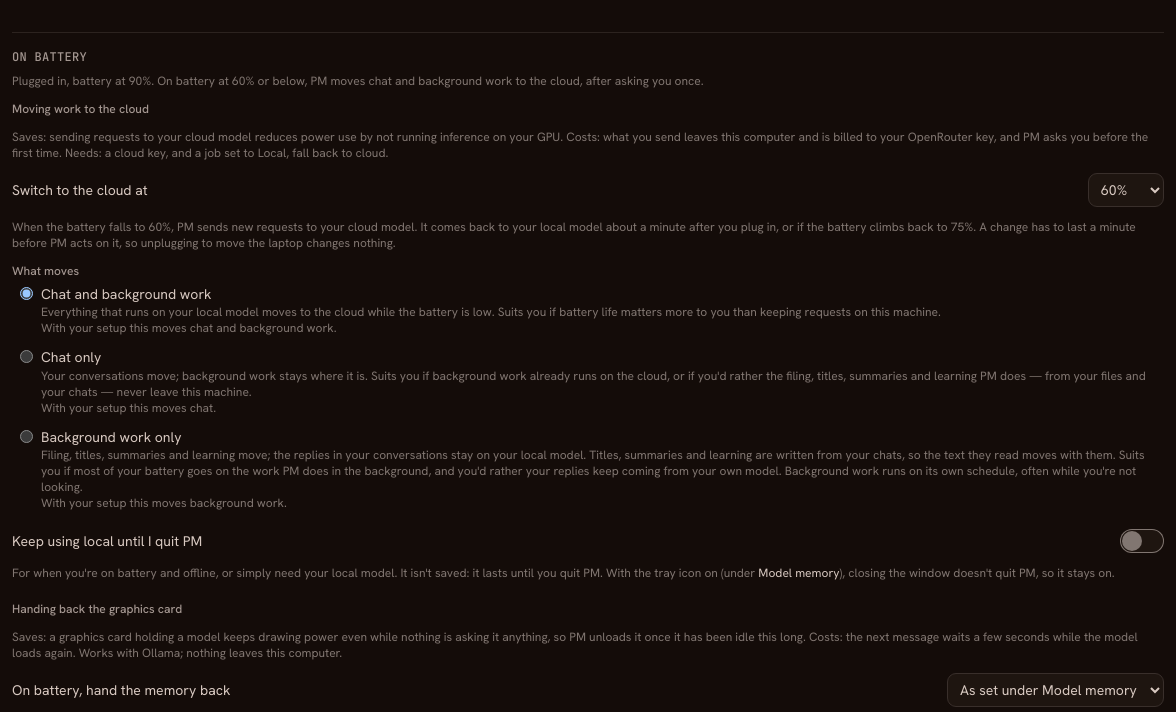
Test: On battery, hand the memory back (#432) › writes only its own field
Select "After 5 minutes without use" in the dropdown labelled "On battery, hand the memory back" at (1056, 690), box x1=947 y1=673 x2=1164 y2=707
(page scrolled)
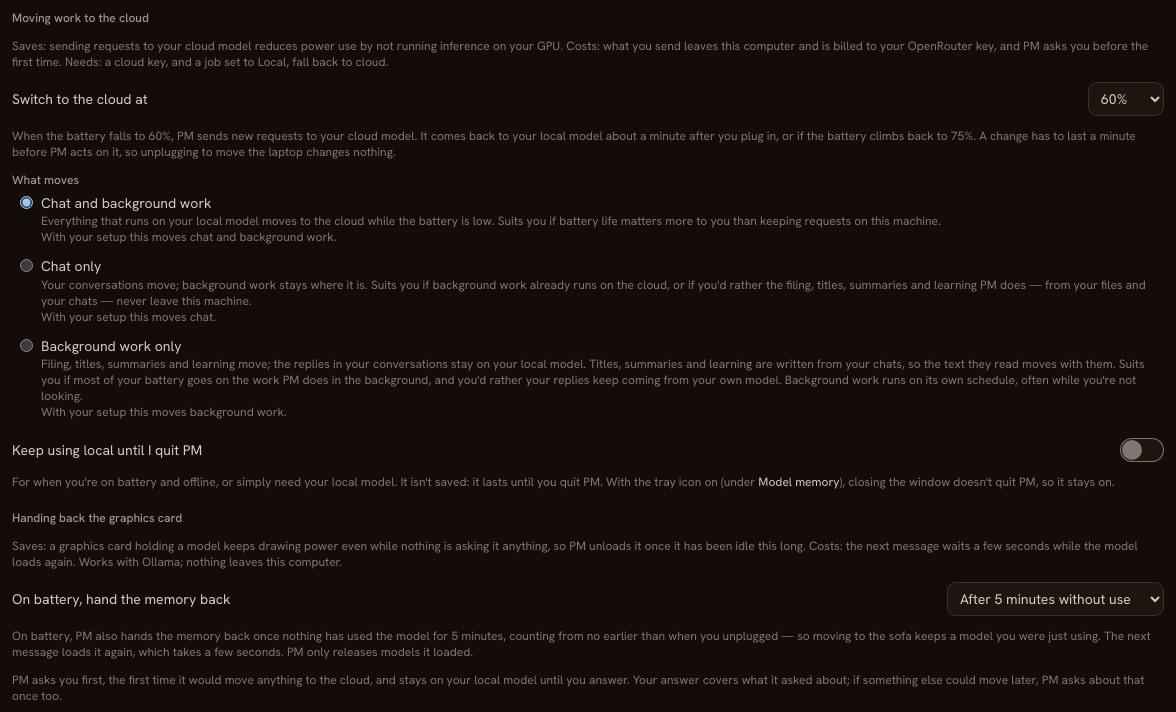
expect the text "counting from no earlier than when you unplugged" is shown: met, box x1=12 y1=628 x2=1151 y2=660
